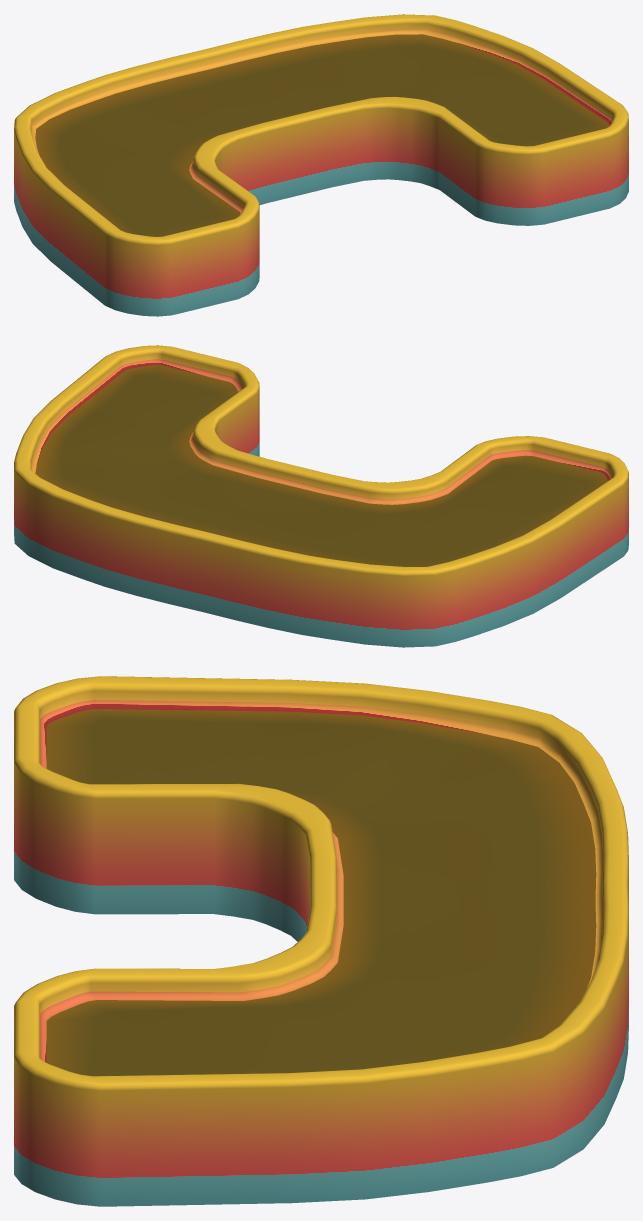
The model's file is Garden_Bed_Textured.fbx.
3 renders of one model, top to bottom at view 1: azimuth 30°, elevation 25°; view 2: azimuth 150°, elevation 25°; view 3: azimuth 270°, elevation 25°, orthographic. The views are drawn at different scales.
Visible parts, largest first — view 1: Garden_Bed_Textured; view 2: Garden_Bed_Textured; view 3: Garden_Bed_Textured.
Part boxes in pixels (x1,y1,x2,y2): Garden_Bed_Textured: [14, 14, 628, 316]; Garden_Bed_Textured: [14, 345, 628, 647]; Garden_Bed_Textured: [14, 676, 628, 1206].
Size of the model in its own units: 704 by 97.16 by 445.
1 material, 1 textured.
